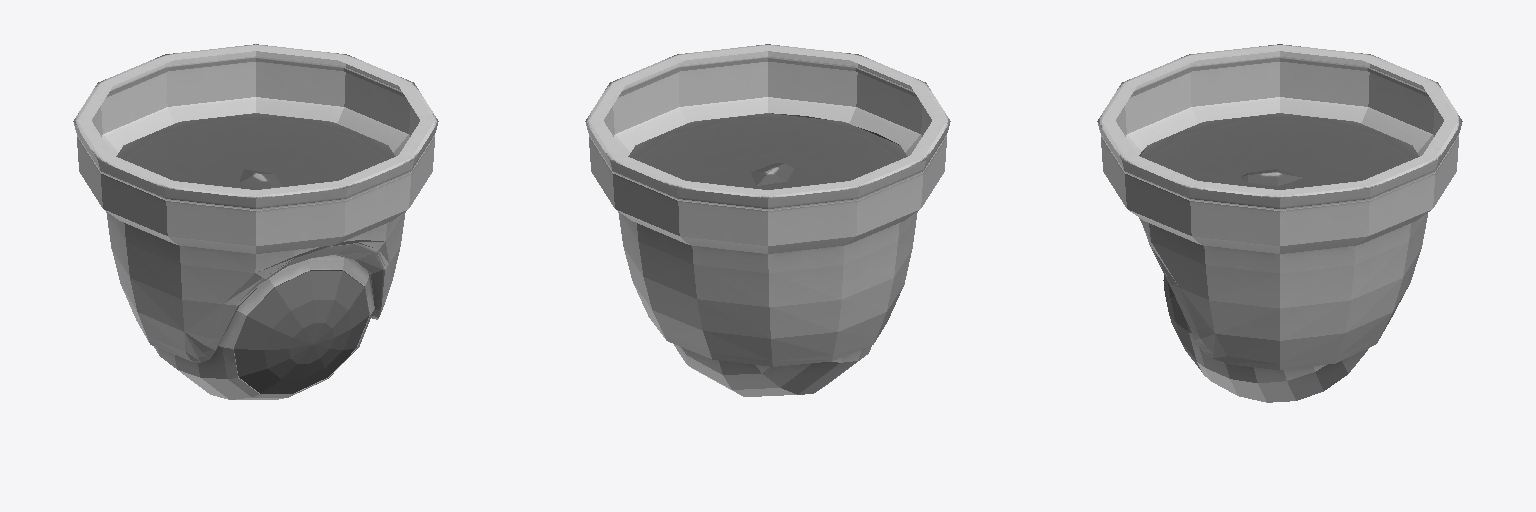
3 renders of one model, left to right at view 1: azimuth 30°, elevation 25°; view 2: azimuth 150°, elevation 25°; view 3: azimuth 270°, elevation 25°, orthographic.
Visible parts, largest first — view 1: RoofCamera_Base, Ball; view 2: RoofCamera_Base, Ball; view 3: RoofCamera_Base, Ball.
Boxes of the visible parts, <box> form: RoofCamera_Base: <box>73,44,438,362</box>; Ball: <box>154,169,374,399</box>; RoofCamera_Base: <box>585,44,950,366</box>; Ball: <box>674,163,871,396</box>; RoofCamera_Base: <box>1097,44,1462,369</box>; Ball: <box>1163,169,1368,402</box>.
Size of the model in its own units: 1.76 by 1.44 by 1.76.
5 materials, 2 textured.